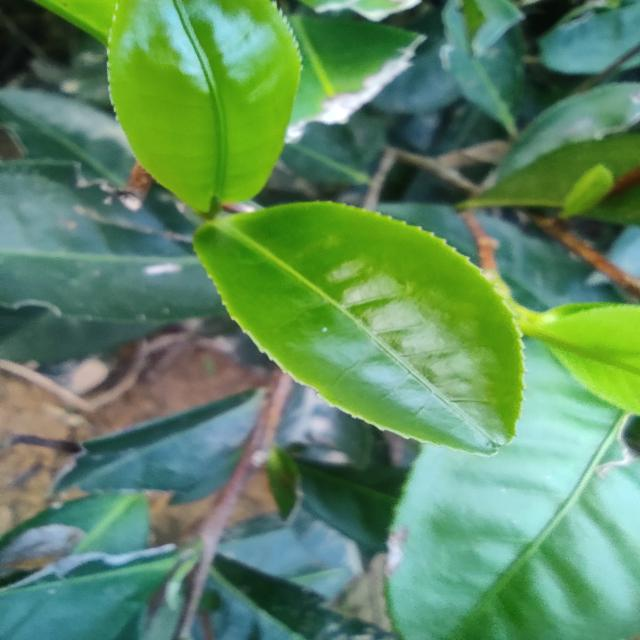Category C(4-7 days): (144, 152, 546, 477)
